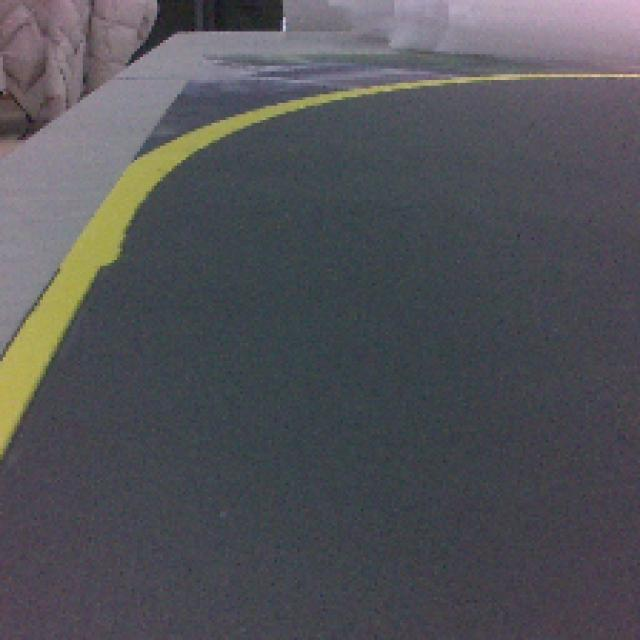Road: (0, 261, 640, 640)
